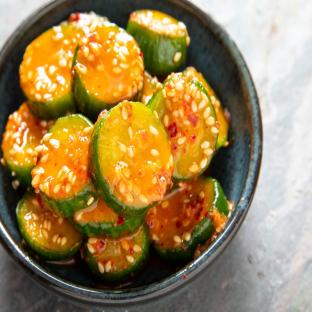Cucumber: (89, 101, 173, 217), (148, 76, 218, 181), (146, 177, 229, 265), (73, 22, 143, 119), (32, 114, 97, 216), (20, 25, 82, 119), (17, 190, 82, 260), (2, 103, 53, 188), (127, 10, 189, 74), (85, 223, 149, 284), (183, 67, 229, 149), (74, 199, 146, 238), (66, 12, 108, 34), (140, 71, 158, 104)
